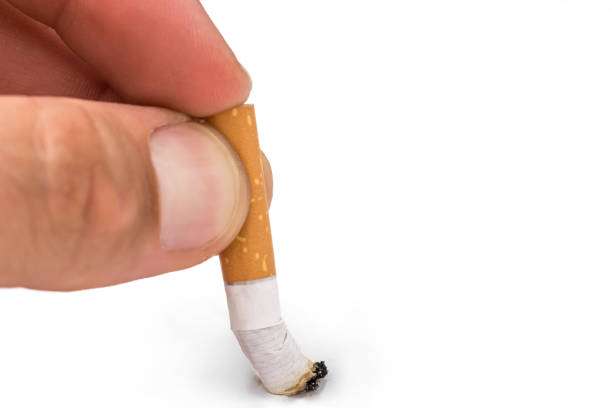cigarette: (209, 100, 328, 396)
